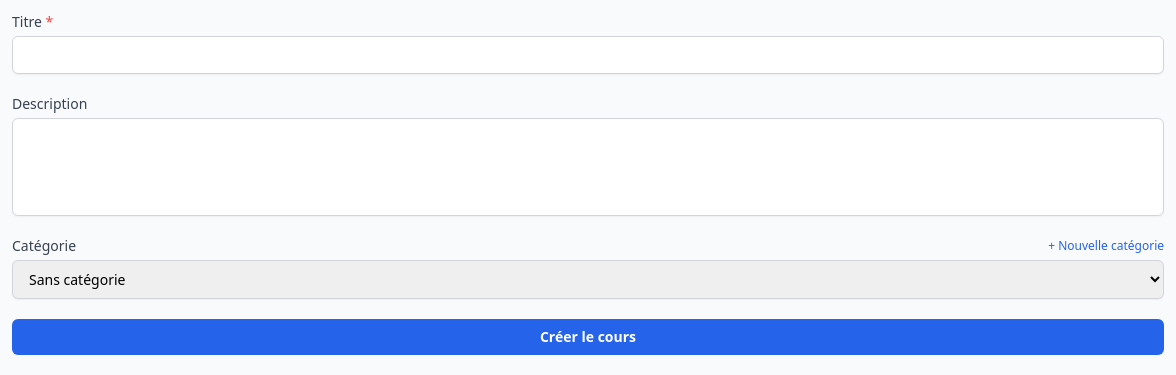
Scenario: CourseForm — création de catégorie inline › permet de créer une nouvelle catégorie sans quitter le formulaire
This screenshot has width=1176, height=375.
Click the button "+ Nouvelle catégorie" at (1106, 246), box [1048,238,1164,254]
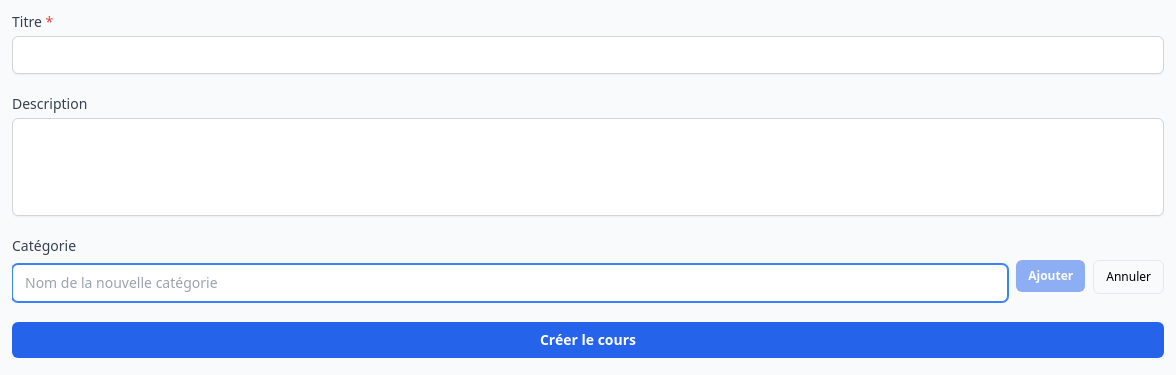
Type "Data Science" into the field with placeholder "Nom de la nouvelle catégorie" at (510, 283), box [12,264,1008,302]
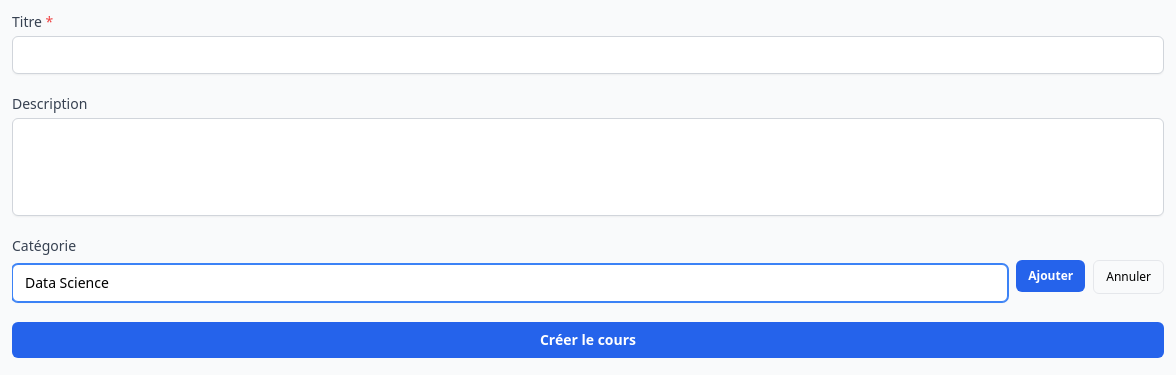
Click the button "Ajouter" at (1051, 276), box [1016,260,1085,292]
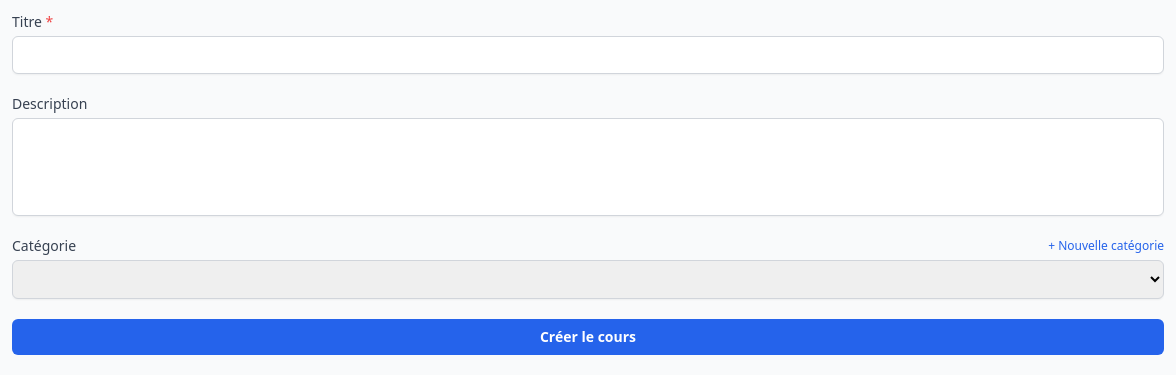
Expected: the field with placeholder "Nom de la nouvelle catégorie" is not shown
Result: the button "+ Nouvelle catégorie" is shown at [1048,238,1164,254]
